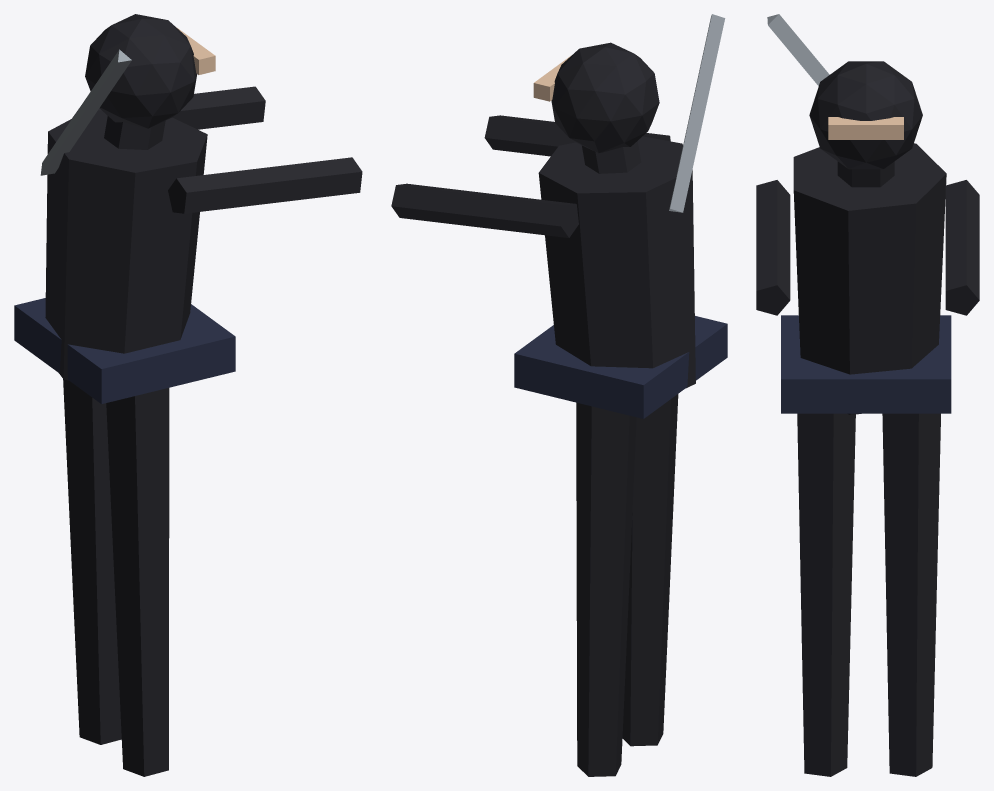
File: ninja.glb
3 renders of one model, left to right at view 1: azimuth 30°, elevation 25°; view 2: azimuth 150°, elevation 25°; view 3: azimuth 270°, elevation 25°, orthographic. The views are drawn at different scales.
Parts seen in each view (by area): view 1: Kropp, BenH, BenV, ArmH, ArmV; view 2: Kropp, BenV, BenH, ArmV, ArmH; view 3: Kropp, BenV, BenH, ArmV, ArmH.
Boxes of the visible parts, x1,y1,x2,y2 form: Kropp: [14, 14, 235, 404]; BenH: [106, 388, 169, 776]; BenV: [63, 379, 121, 744]; ArmH: [168, 157, 362, 213]; ArmV: [72, 86, 265, 129]; Kropp: [514, 14, 727, 418]; BenV: [576, 402, 636, 776]; BenH: [622, 394, 678, 746]; ArmV: [391, 183, 578, 237]; ArmH: [484, 115, 670, 156]; Kropp: [767, 14, 951, 414]; BenV: [882, 413, 940, 776]; BenH: [797, 413, 855, 776]; ArmV: [945, 180, 979, 315]; ArmH: [756, 180, 790, 315].
Size of the model in its own units: 0.612 by 1.7 by 0.4724.
